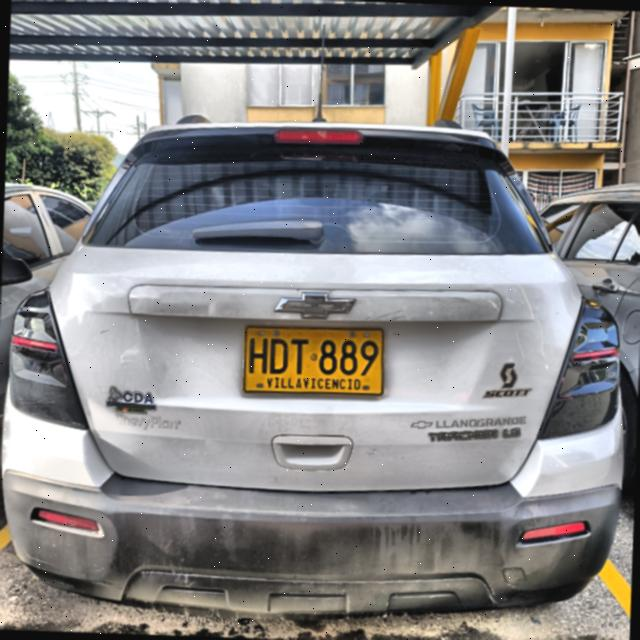8: (317, 338, 338, 376), (338, 338, 360, 374)
9: (358, 338, 380, 376)
D: (268, 336, 289, 375)
H: (247, 336, 269, 376)
T: (288, 336, 310, 376)
